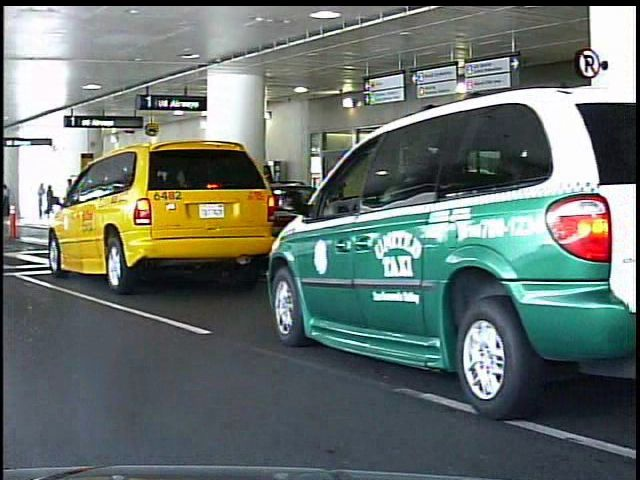person: (47, 181, 59, 220), (39, 180, 50, 220), (4, 183, 13, 216)
